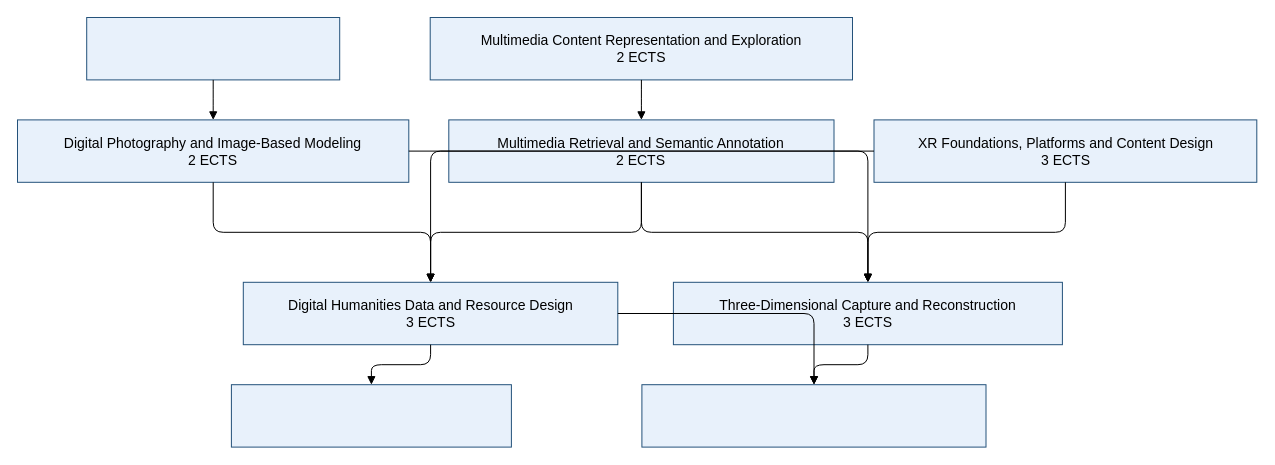
Some shapes in this 1275 by 465 pixel diagram are drawn without their labels. Here are the shapes that lost their labels. From the top down, the box of each, then its label:
(86, 16, 340, 80): Digital Graphics and Layout 3 ECTS
(230, 384, 511, 447): Text and Document Digitization 3 ECTS
(641, 384, 986, 447): Digital Cultural-Heritage Communication 3 ECTS
